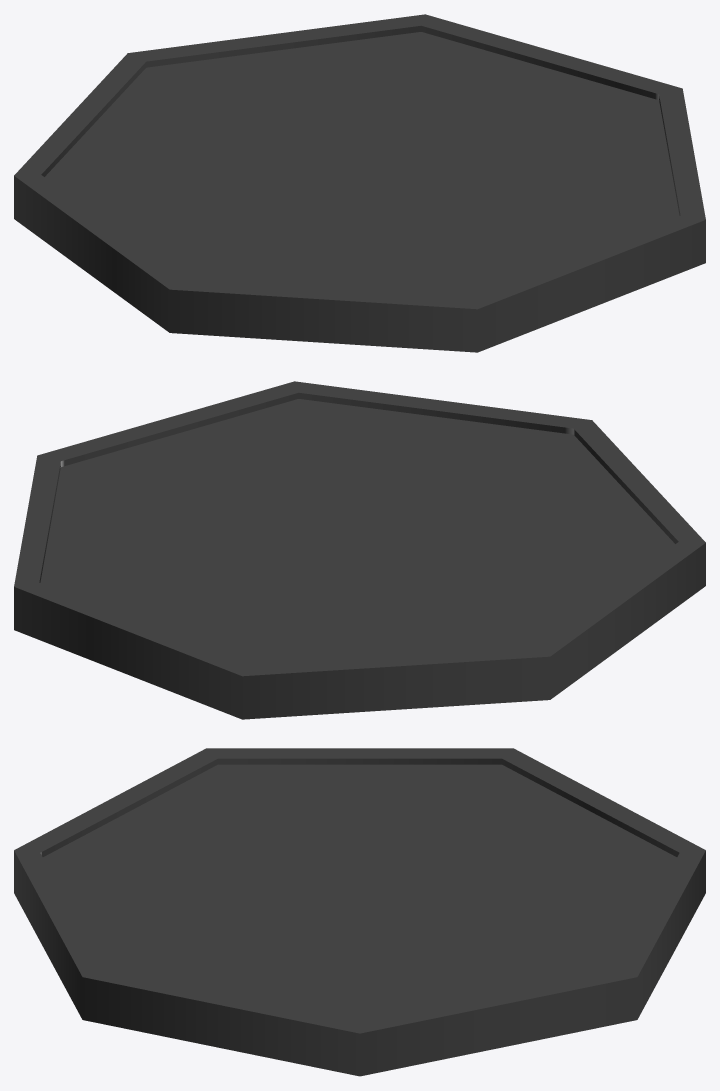
Rendered from DSAE_375-PC-SCS1.obj.
3 renders of one model, top to bottom at view 1: azimuth 30°, elevation 25°; view 2: azimuth 150°, elevation 25°; view 3: azimuth 270°, elevation 25°, orthographic.
Parts seen in each view (by area): view 1: DSAE_375-PC-SCS1; view 2: DSAE_375-PC-SCS1; view 3: DSAE_375-PC-SCS1.
Part boxes in pixels (x1,y1,x2,y2): DSAE_375-PC-SCS1: (14,14,705,352); DSAE_375-PC-SCS1: (14,381,705,719); DSAE_375-PC-SCS1: (14,748,705,1076).
Bounding box in the file's own units: 7.13 × 0.5 × 7.31.
